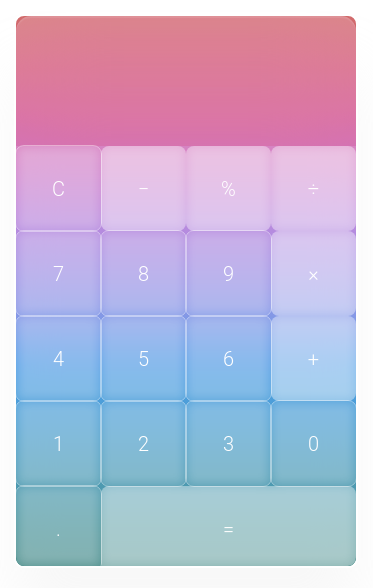
Scenario: Calculator component › Addition operation
Click the button "1".
click(58, 444)  # box [16, 401, 101, 486]
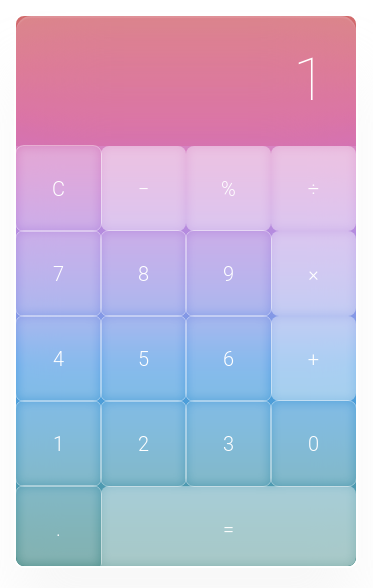
Click the button "+".
click(314, 358)  # box [271, 316, 356, 401]
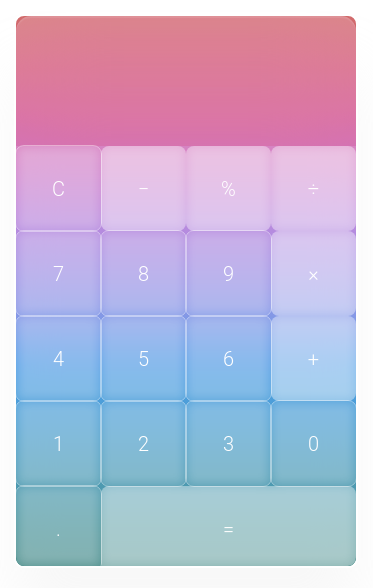
Click the button "2".
click(144, 444)  # box [101, 401, 186, 486]
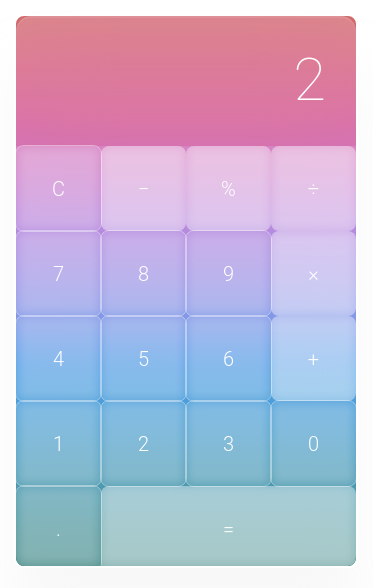
Click the button "=".
click(228, 528)  # box [101, 486, 356, 571]
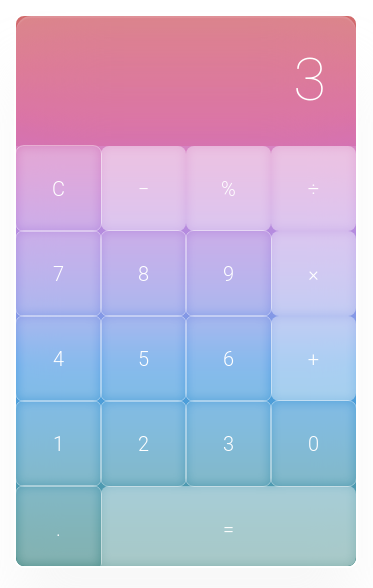
Now the text with test id "calculator-display" reads "3", box [293, 44, 326, 115]
